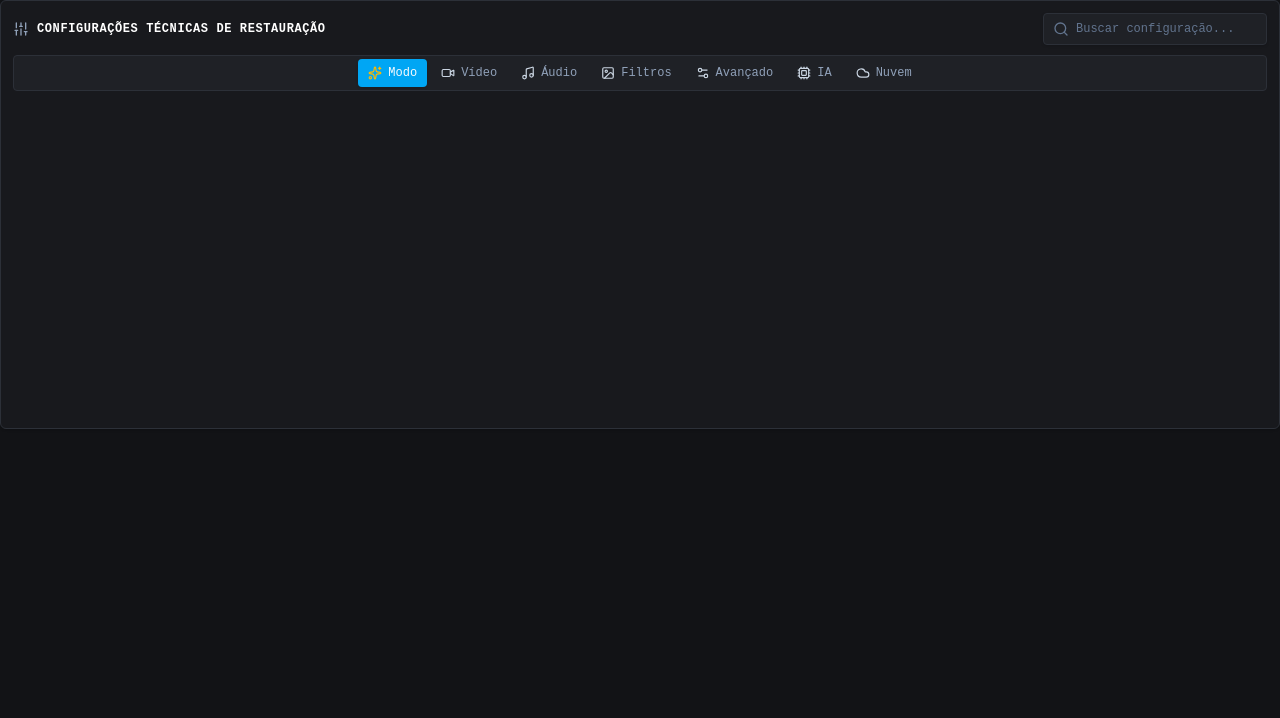
Test case: RestorationSettings UX/UI & Layout Tests ("Feng Shui" & Coerência Visual) › clears search input and restores full view when clicking clear button
Type "rife" into the field with test id "settings-search-input" at (1155, 29), box [1043,13,1267,45]
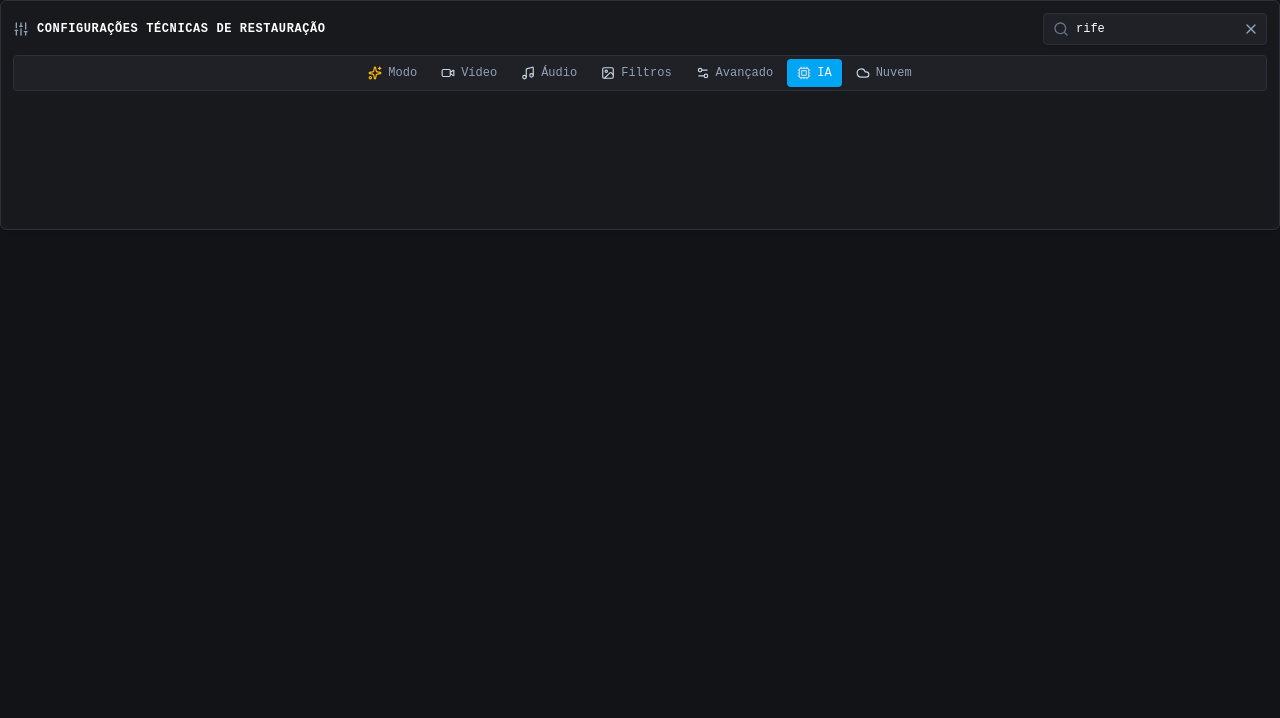
Expected: the button named "Limpar busca" is shown
Click the button named "Limpar busca" at (1251, 29), box [1243,21,1259,37]
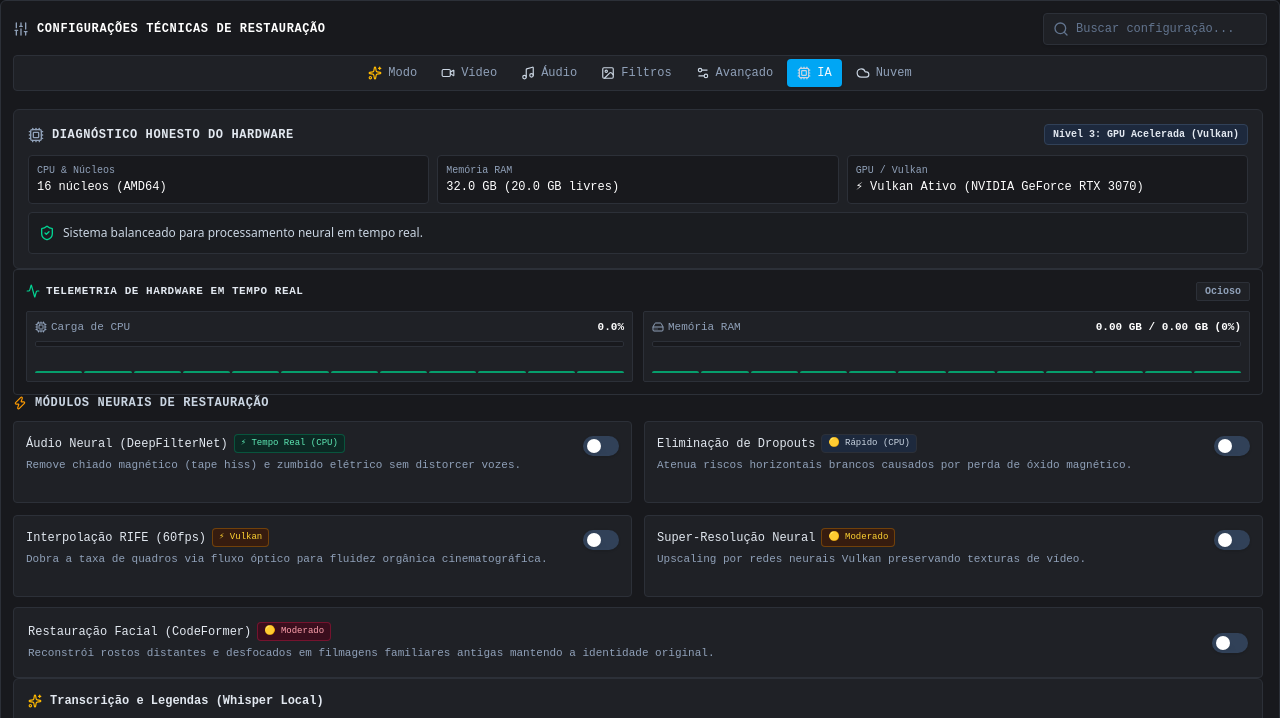
Expected: the field with test id "settings-search-input" is empty, [1043,13,1267,45]
